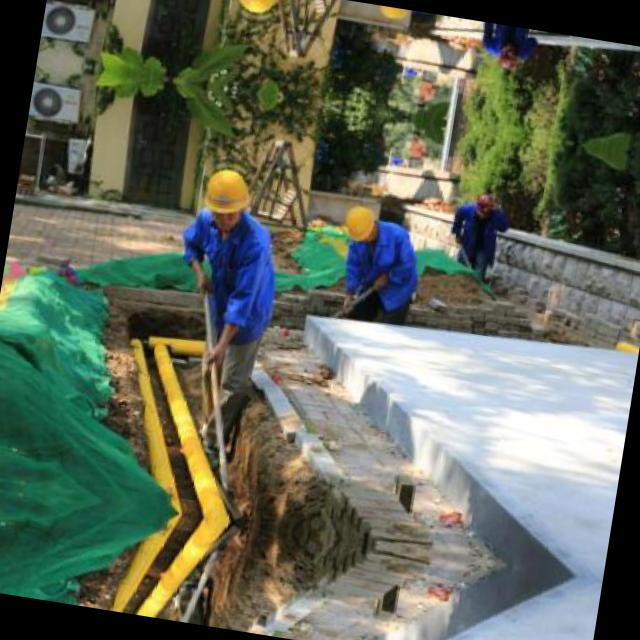helmet: (198, 158, 255, 230), (335, 200, 377, 242), (229, 0, 283, 24), (470, 189, 500, 222), (493, 41, 523, 74), (368, 4, 409, 25)
